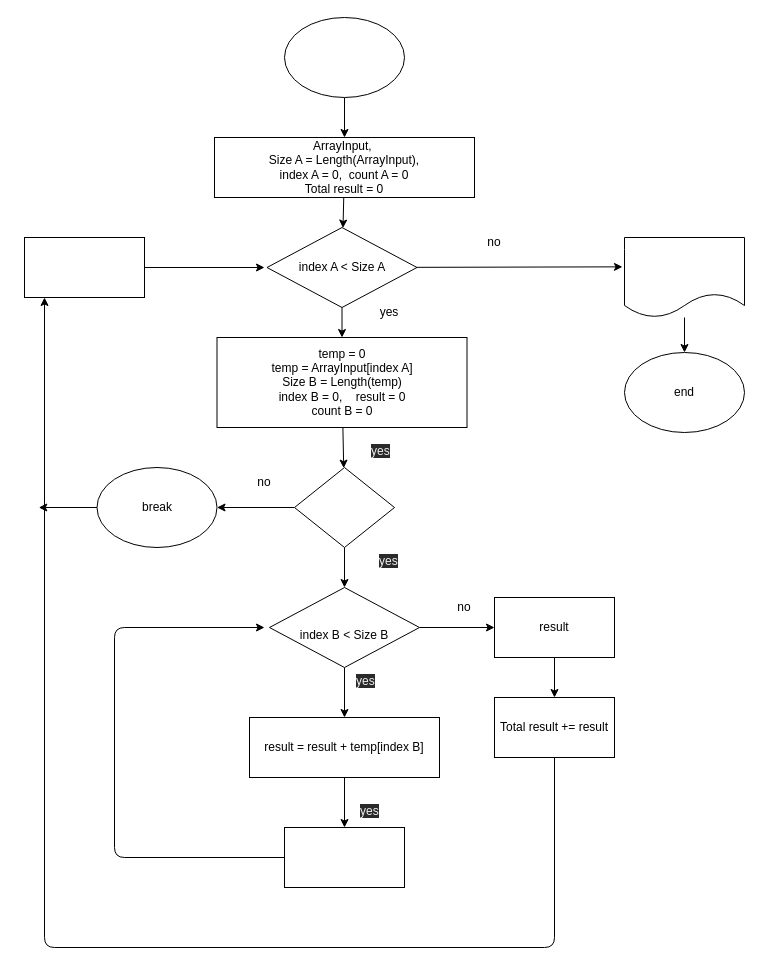
Image size: 762x973. Some labels were removed from this diagram. The centre of each missing label's shape, as x and y in pixels:
"count A +1" belongs at (x=84, y=267).
"count B +1" belongs at (x=344, y=857).
"Size B < 4" belongs at (x=344, y=507).
"start" belongs at (x=344, y=57).
"Total result" belongs at (x=684, y=277).
